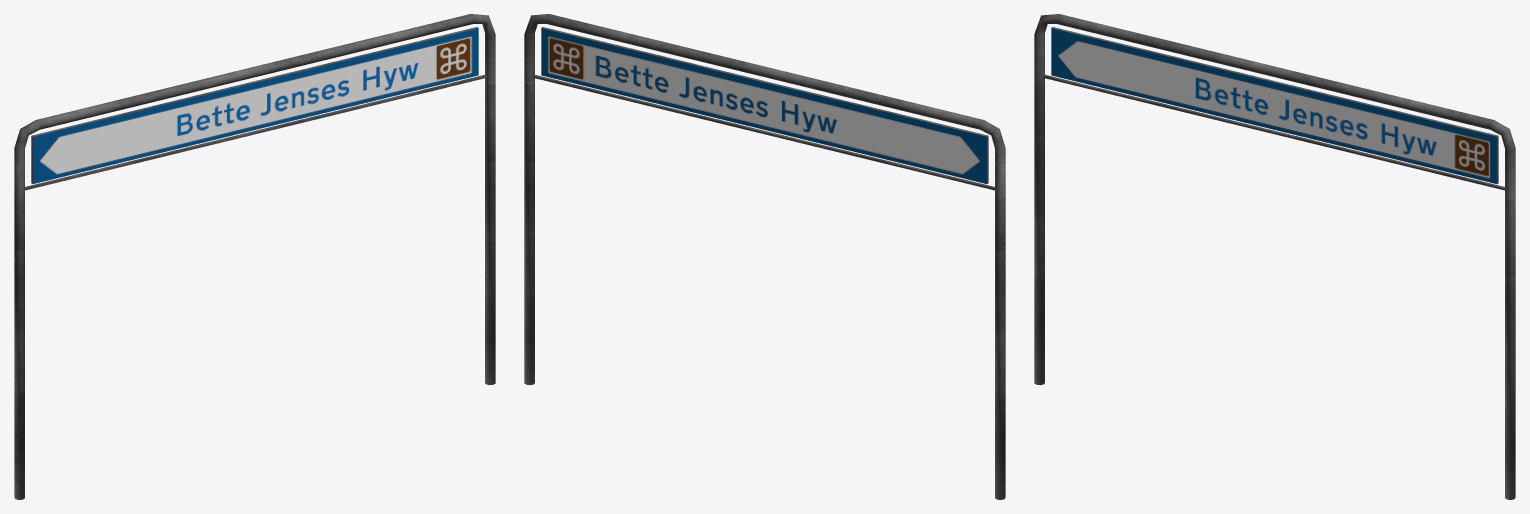
The model's file is SkilteStortFur1.fbx.
3 views of the same model, side by side, from view 1: azimuth 30°, elevation 25°; view 2: azimuth 150°, elevation 25°; view 3: azimuth 330°, elevation 25° (orthographic).
Visible parts, largest first — view 1: Skilt_LOD0; view 2: Skilt_LOD0; view 3: Skilt_LOD0.
Part boxes in pixels (<box>): Skilt_LOD0: <box>14,14,495,499</box>; Skilt_LOD0: <box>524,14,1005,499</box>; Skilt_LOD0: <box>1034,14,1515,499</box>.
Size of what is drawn, in the model's own units: 255 by 190 by 5.
